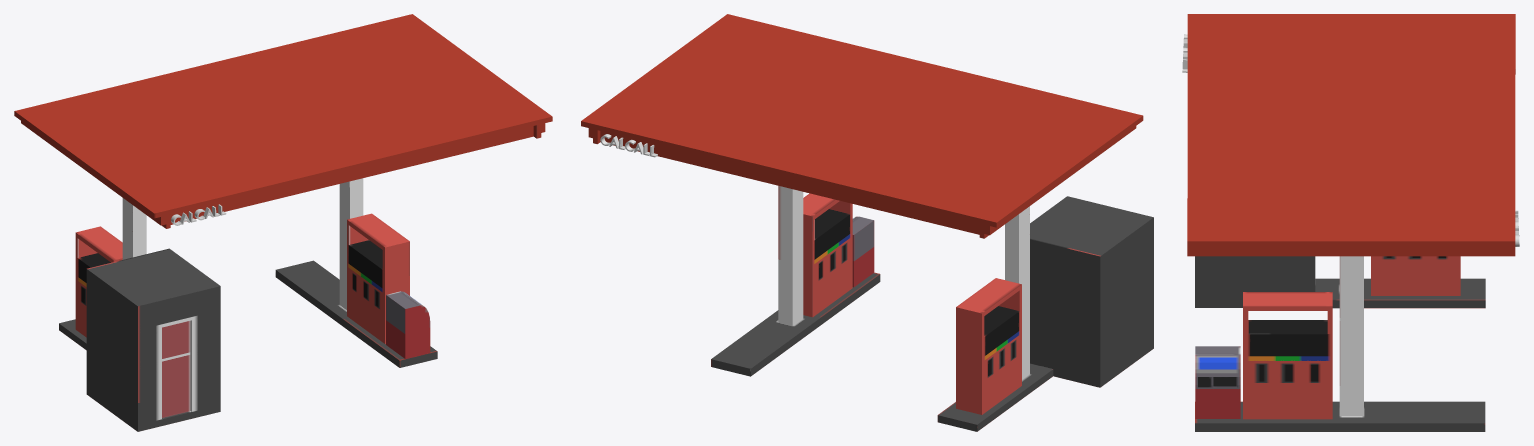
The model's file is Station.fbx.
3 renders of one model, left to right at view 1: azimuth 30°, elevation 25°; view 2: azimuth 150°, elevation 25°; view 3: azimuth 270°, elevation 25°, orthographic. The views are drawn at different scales.
Parts seen in each view (by area): view 1: Cube; view 2: Cube; view 3: Cube.
Boxes of the visible parts, x1,y1,x2,y2 form: Cube: (14, 14, 552, 431); Cube: (581, 14, 1153, 431); Cube: (1187, 14, 1515, 431).
Bounding box in the file's own units: 9948 × 5024 × 6033.
2 materials, 1 textured.
